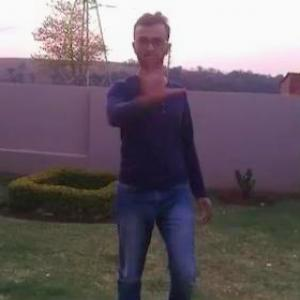follow_hand: (131, 48, 186, 104)
